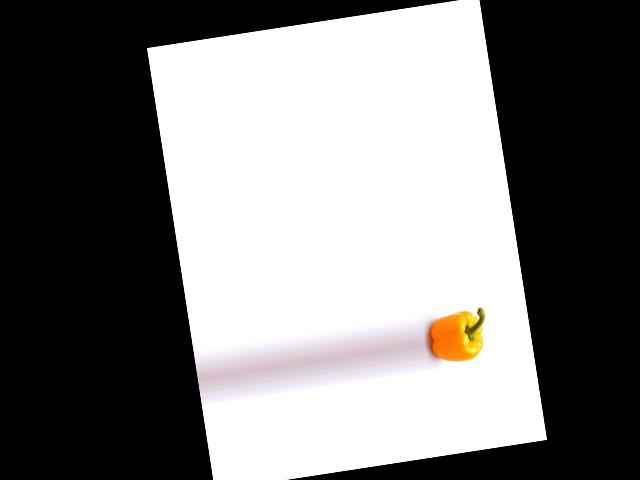bell_pepper: (425, 305, 489, 370)
